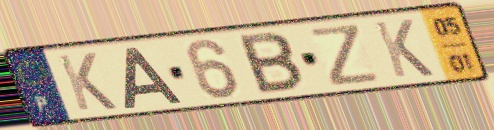6: (183, 37, 240, 101)
A: (122, 45, 185, 111)
B: (235, 30, 307, 98)
K: (54, 51, 121, 114), (370, 18, 438, 80)
Z: (306, 22, 383, 89)
